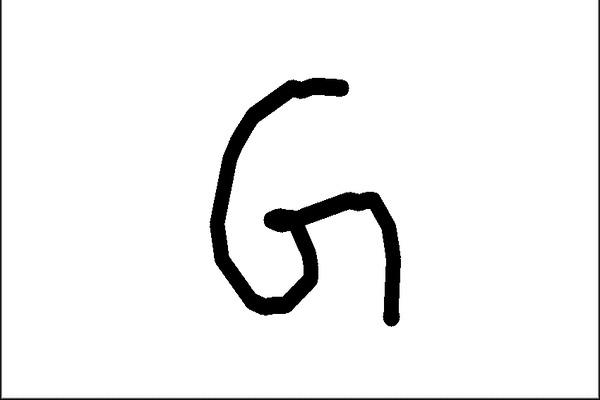G: (205, 73, 409, 334)
